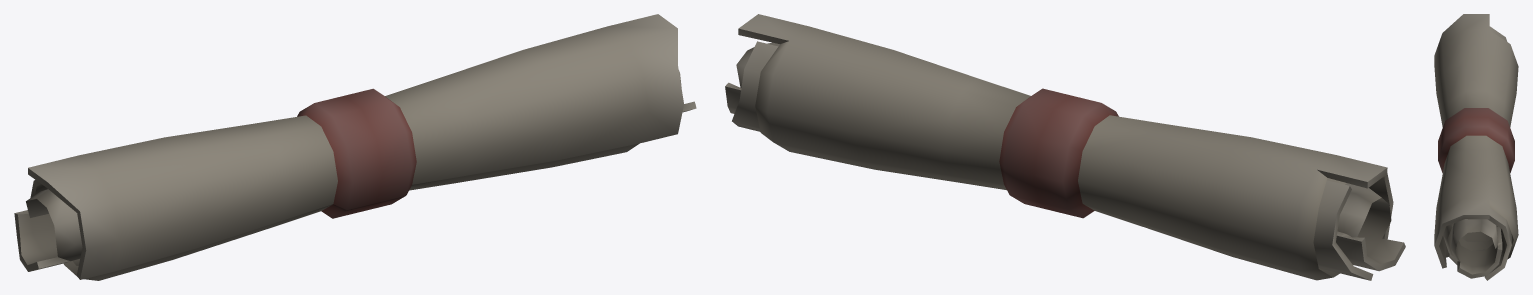
Rendered from prop_scroll.glb.
3 views of the same model, side by side, from view 1: azimuth 30°, elevation 25°; view 2: azimuth 150°, elevation 25°; view 3: azimuth 270°, elevation 25° (orthographic). The views are drawn at different scales.
Visible parts, largest first — view 1: refined; view 2: refined; view 3: refined.
Boxes of the visible parts, <box> form: refined: <box>14,14,696,280</box>; refined: <box>725,14,1405,280</box>; refined: <box>1434,14,1518,280</box>.
Size of the model in its own units: 1.48 by 0.2384 by 0.2506.
